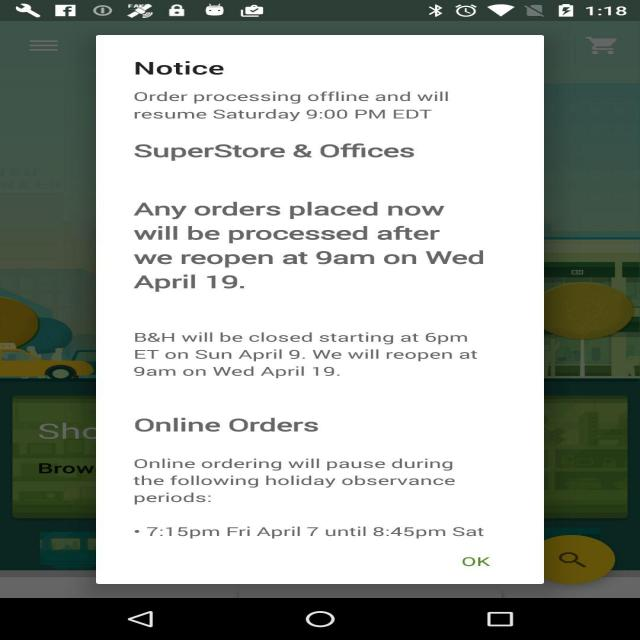button: (116, 600, 550, 632), (434, 542, 521, 582)
text: (116, 55, 516, 541)
